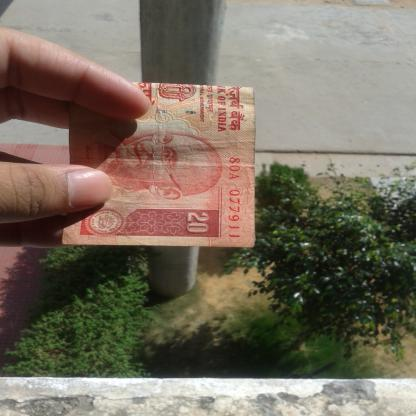Old20Front: (89, 83, 250, 244)
